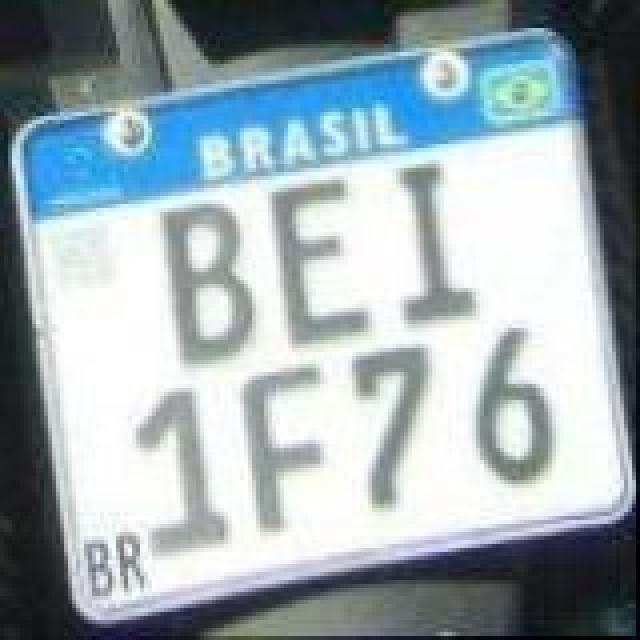1: (132, 386, 232, 554)
6: (472, 326, 564, 482)
7: (348, 344, 432, 516)
B: (152, 202, 260, 370)
E: (264, 174, 372, 350)
F: (238, 364, 334, 536)
I: (392, 158, 484, 334)
